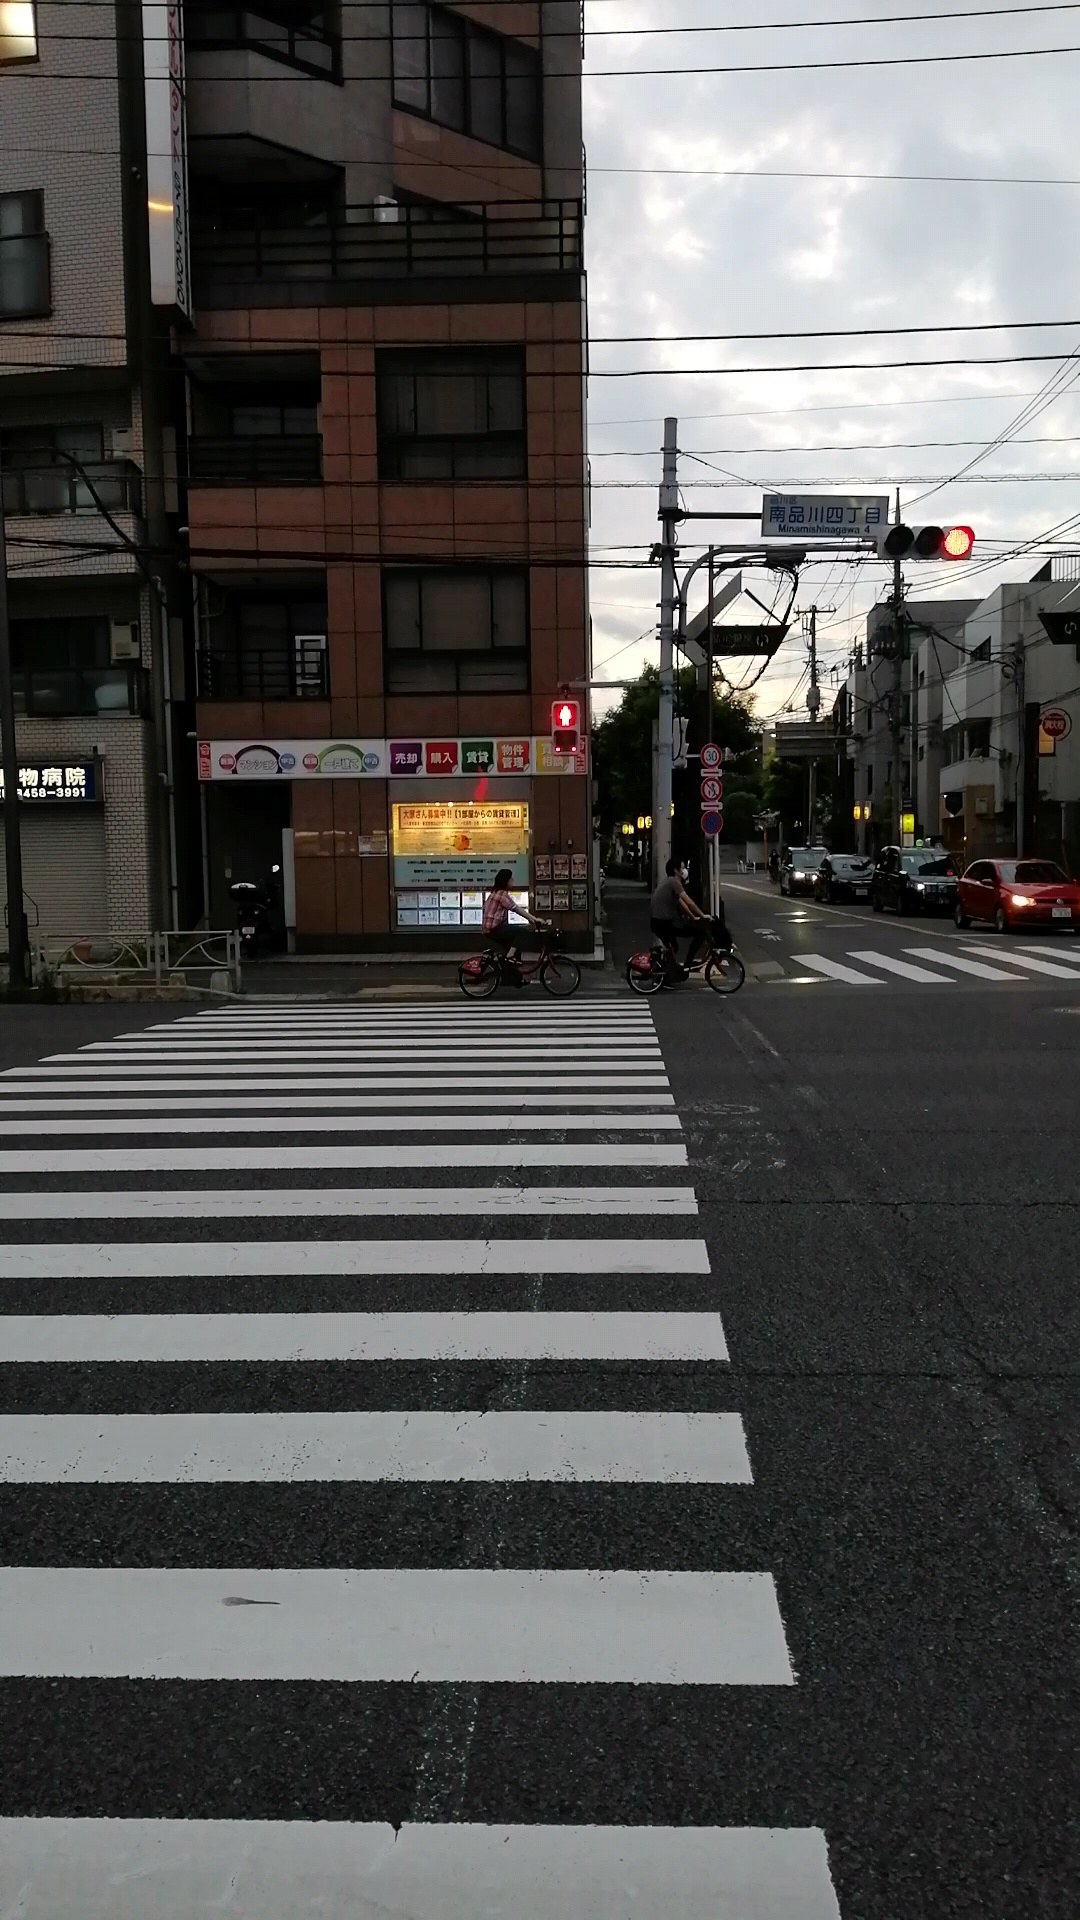red: (549, 702, 582, 757)
